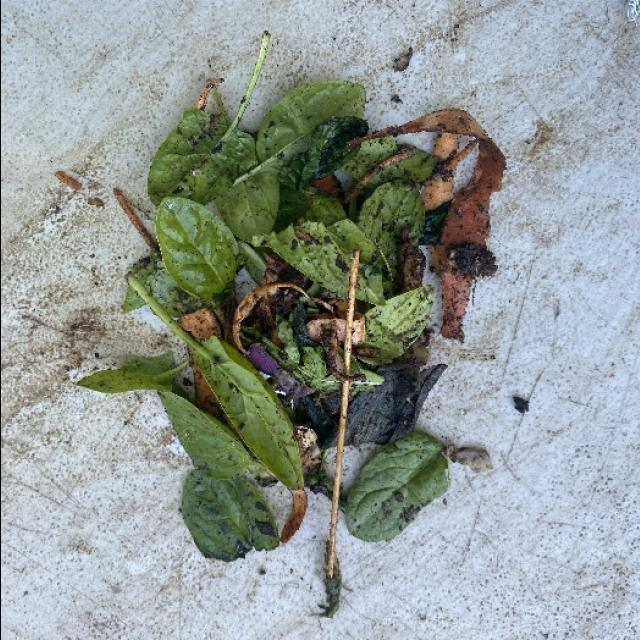organik: (78, 79, 503, 561)
